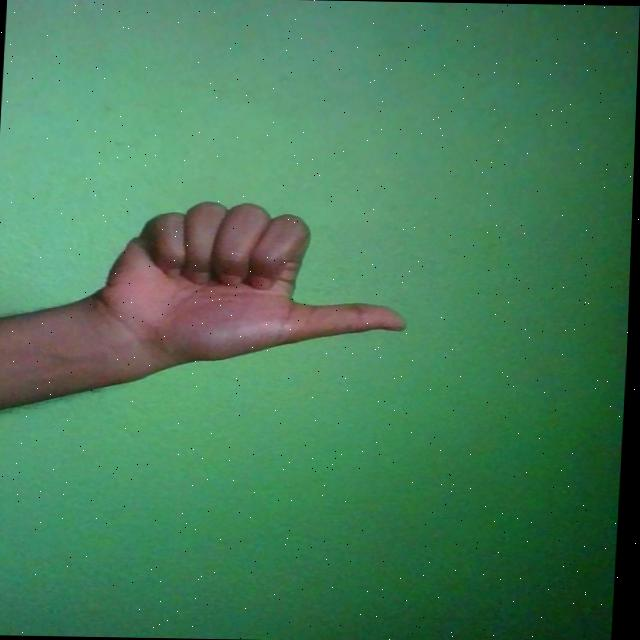Good Job: (90, 199, 412, 366)
